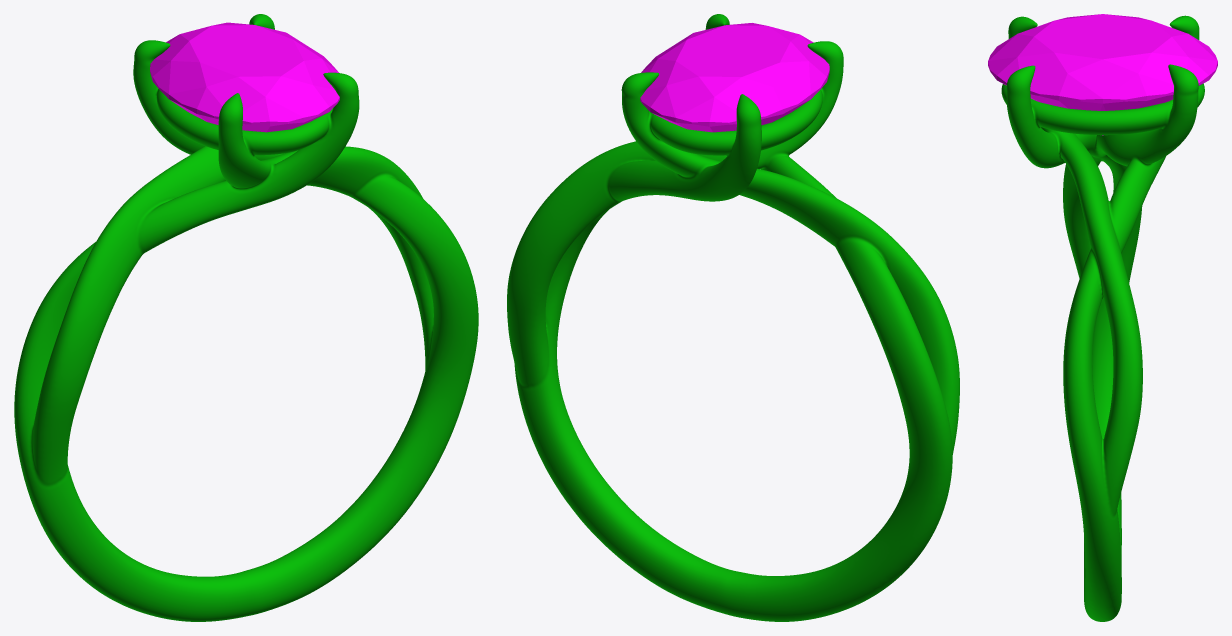
The model's file is BE1818_OV_200ct_RENDER.glb.
3 views of the same model, side by side, from view 1: azimuth 30°, elevation 25°; view 2: azimuth 150°, elevation 25°; view 3: azimuth 270°, elevation 25° (orthographic).
Parts seen in each view (by area): view 1: Metal 01, CS_Diamond_Oval; view 2: Metal 01, CS_Diamond_Oval; view 3: Metal 01, CS_Diamond_Oval.
Boxes of the visible parts, <box> form: Metal 01: <box>14,14,478,621</box>; CS_Diamond_Oval: <box>150,22,339,132</box>; Metal 01: <box>507,14,959,621</box>; CS_Diamond_Oval: <box>640,23,829,132</box>; Metal 01: <box>1001,15,1204,621</box>; CS_Diamond_Oval: <box>988,14,1217,135</box>.
Size of the model in its own units: 20.09 by 24.25 by 9.
